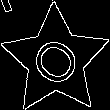O_SE: (24, 28, 87, 92)
